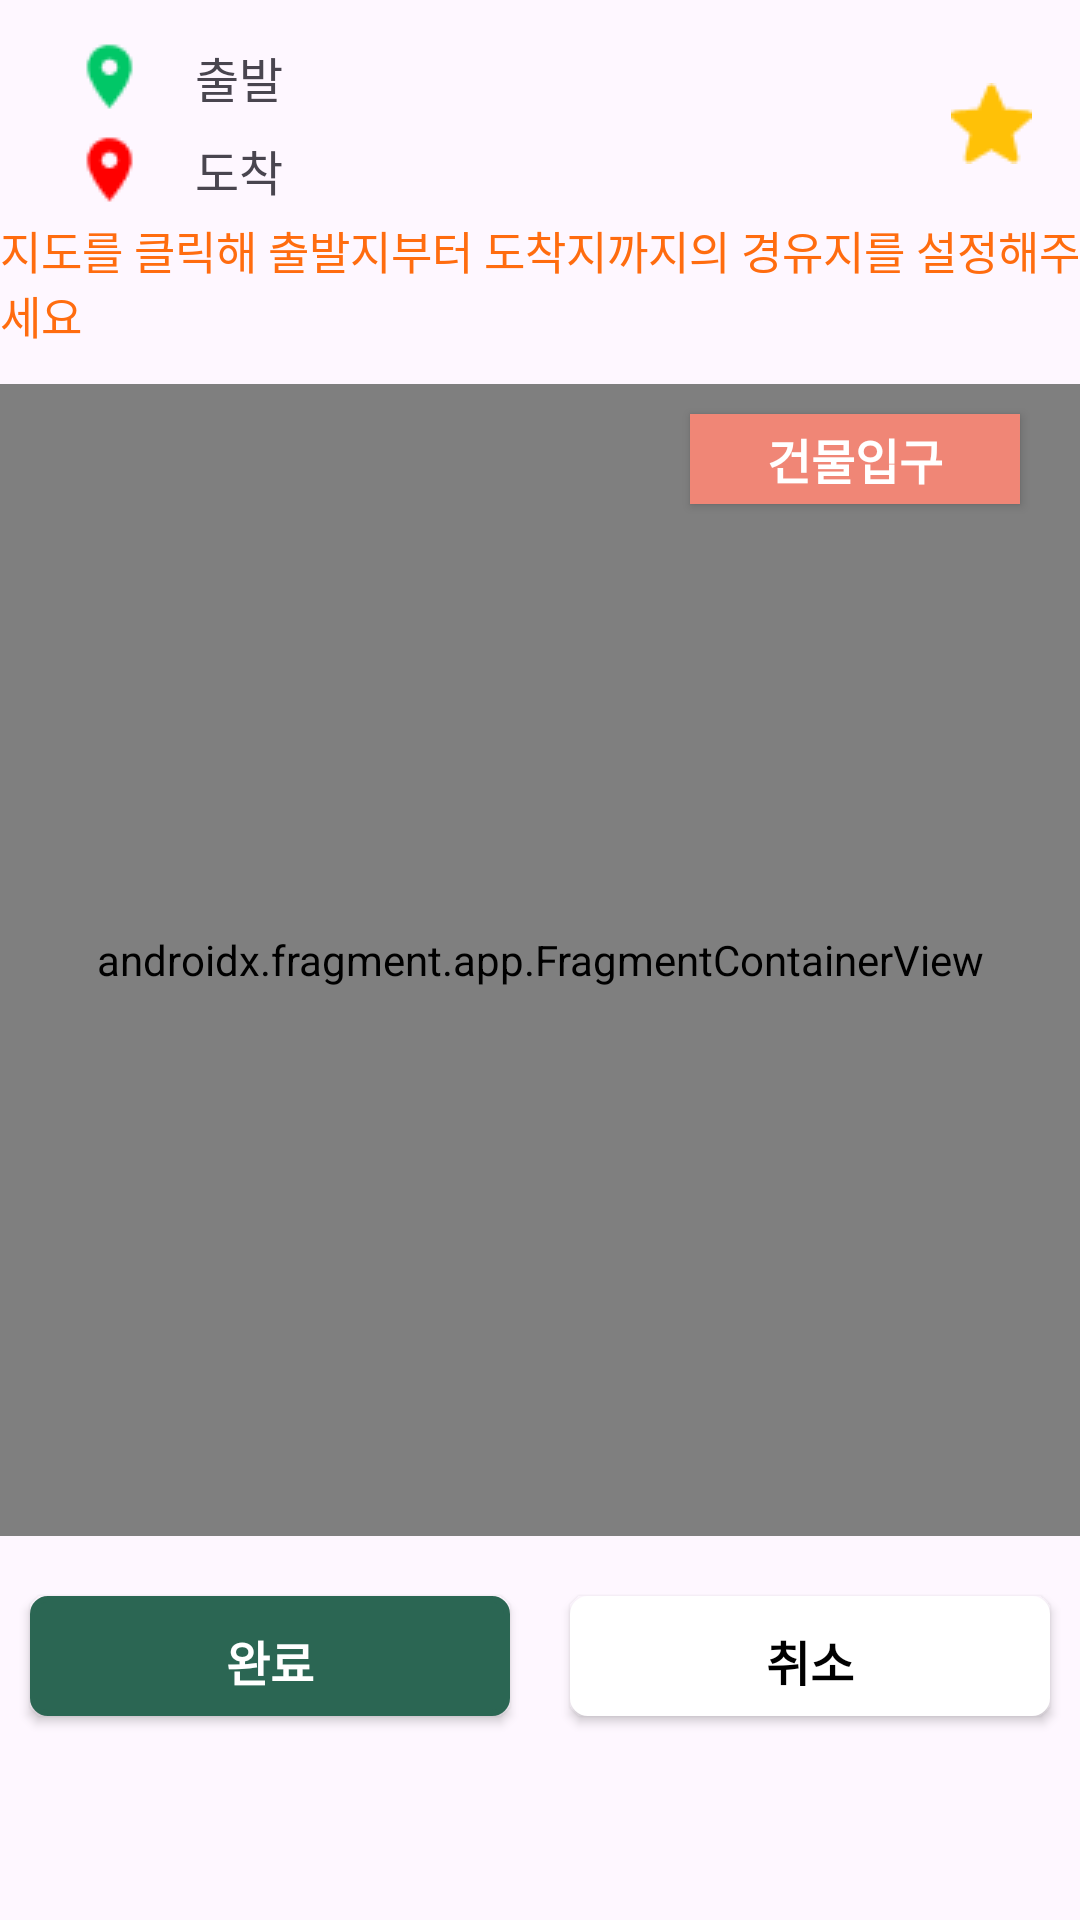

Where icons sit on this 1080x1920 app screen, as (x1, y1, x2, y2):
endpoint: (86, 137, 133, 202)
star on: (951, 83, 1032, 164)
startpoint: (86, 44, 133, 109)
